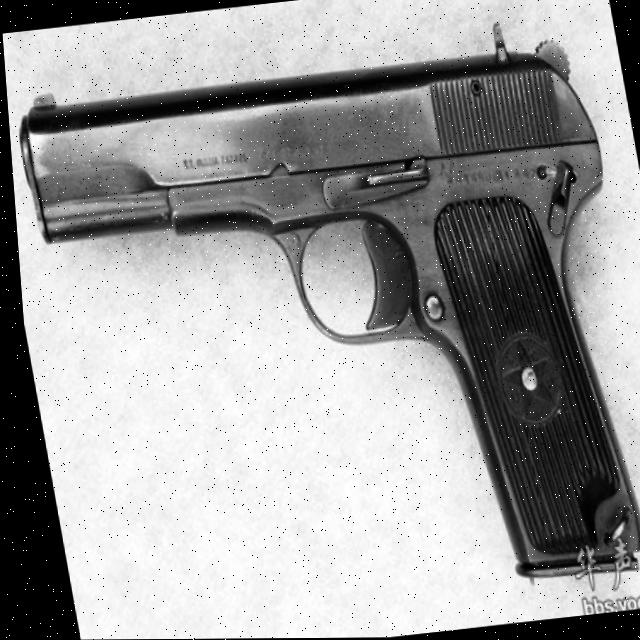pistol: (5, 31, 640, 620)
